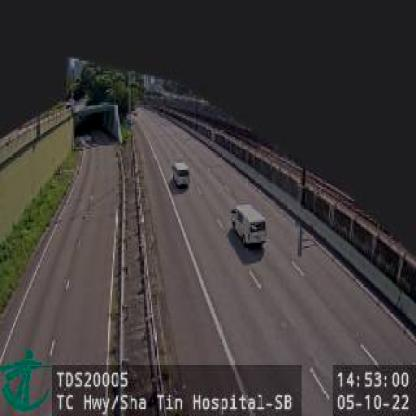Car: (230, 203, 268, 244), (172, 159, 188, 182)
